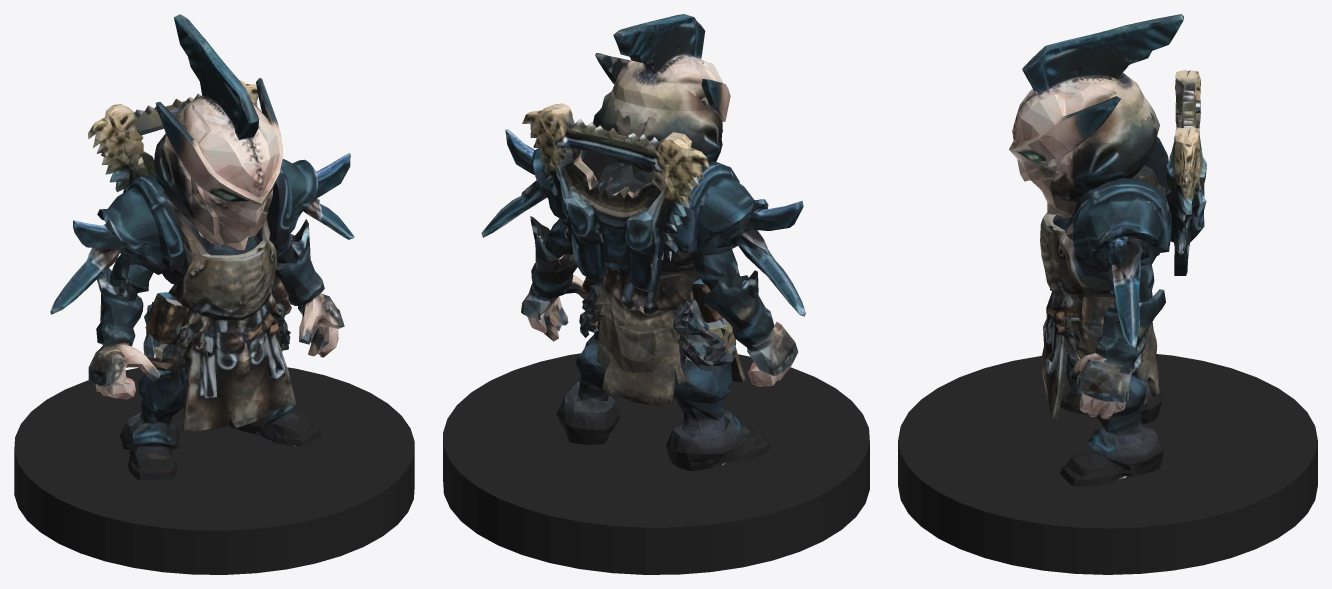
The model's file is ha-flayer.glb.
The picture shows the model from 3 angles, left to right: view 1: azimuth 30°, elevation 25°; view 2: azimuth 150°, elevation 25°; view 3: azimuth 270°, elevation 25°; orthographic projection. The views are drawn at different scales.
Parts seen in each view (by area): view 1: figure, base; view 2: figure, base; view 3: base, figure.
Part boxes in pixels (x1,y1,x2,y2): figure: [50, 14, 354, 480]; base: [14, 367, 414, 574]; figure: [481, 14, 805, 471]; base: [443, 353, 869, 574]; base: [898, 353, 1317, 574]; figure: [1009, 14, 1206, 486].
Size of the model in its own units: 0.9843 by 1.22 by 0.9843.
Materials: 2 (1 with a texture image).
